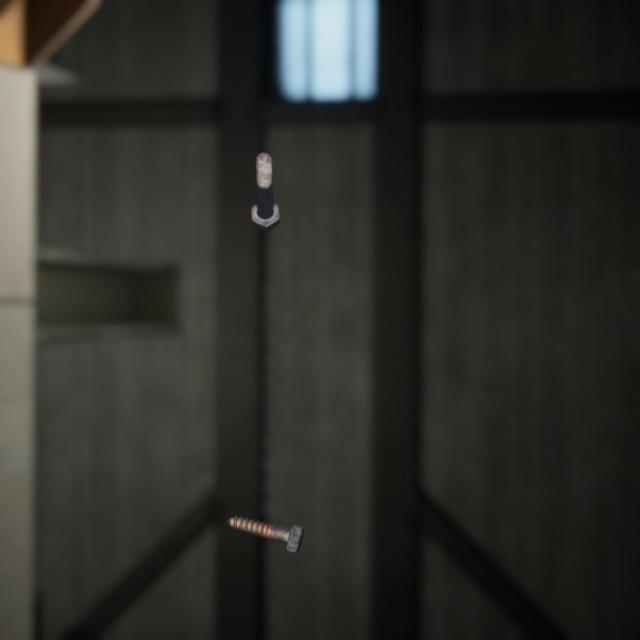bolt: (223, 487, 308, 535), (246, 132, 284, 221)
